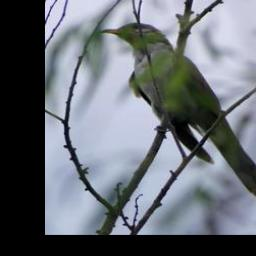Cuckoo: (101, 21, 256, 204)
